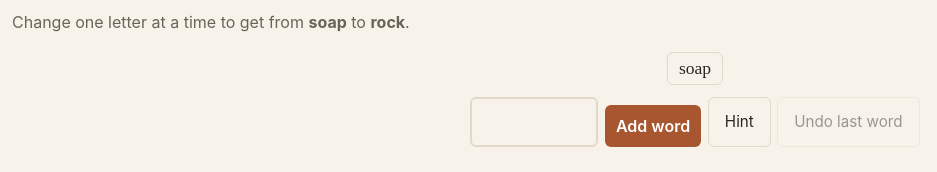
Test: WordPlayGame, ladder › lets the player undo the last word
This screenshot has width=937, height=172.
Expected: the button "Undo last word" is disabled, [777,97,920,147]
In the field named "Next word": (534, 122) [470,97,598,147], type "soak"
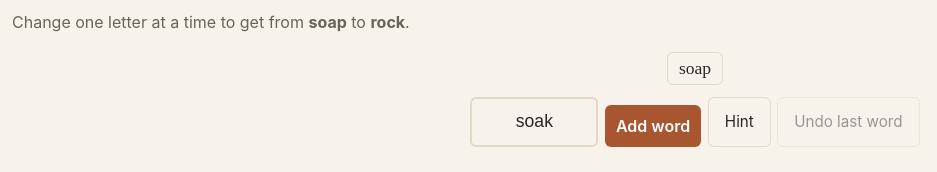
Click the button "Add word": (653, 126) [605,105,702,147]
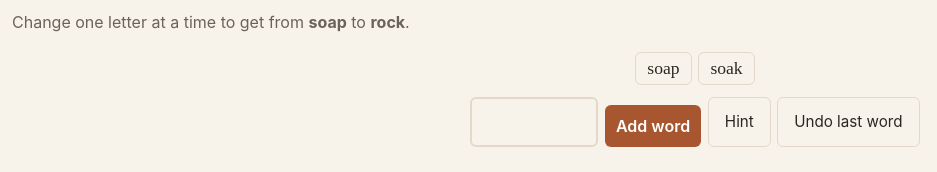
Expected: the button "Undo last word" is enabled
Click the button "Undo last word": (848, 122) [777,97,920,147]
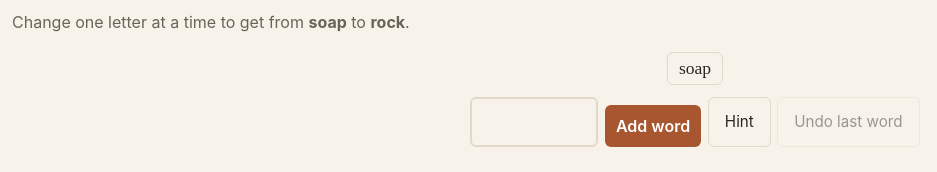
Expected: the button "Undo last word" is disabled, [777,97,920,147]
